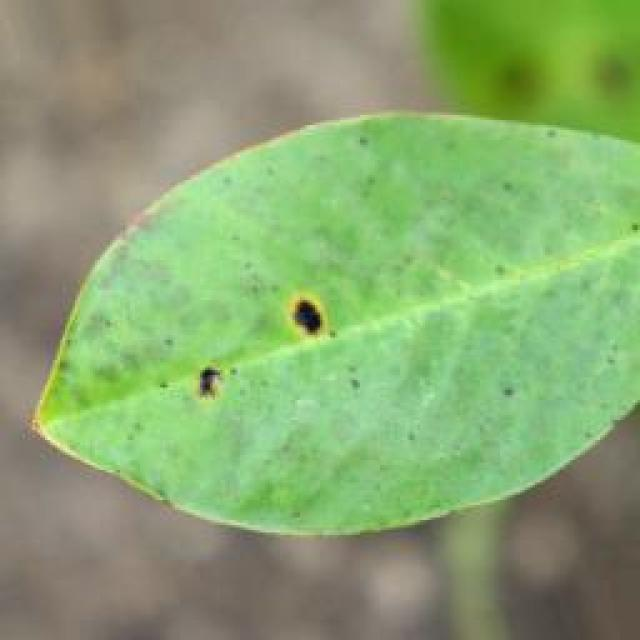Sigatoka: (270, 268, 362, 392), (182, 356, 239, 441), (113, 198, 169, 248)
